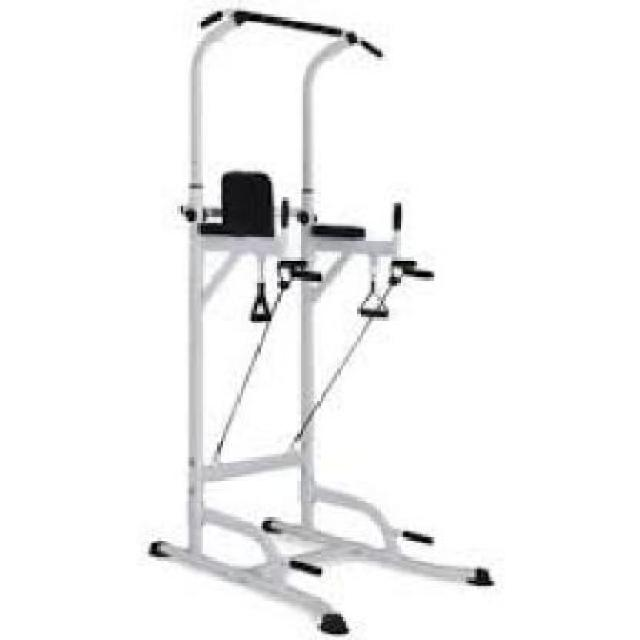chinning dipping: (148, 4, 497, 636)
